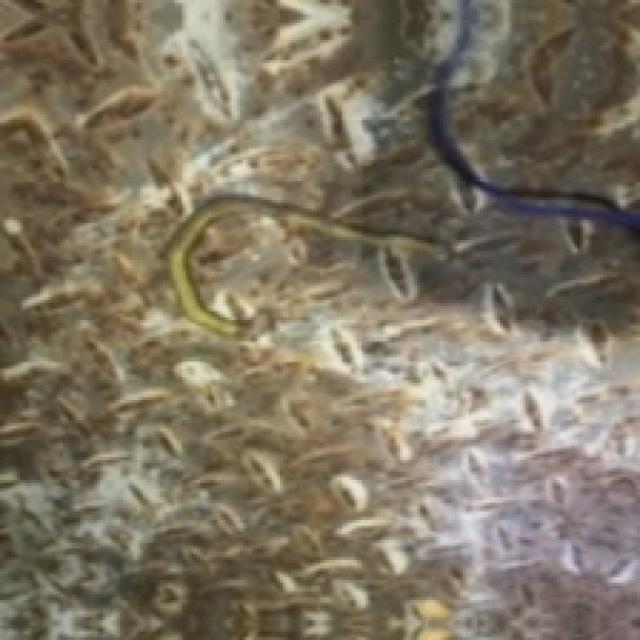gervais worm snake: (166, 194, 431, 334)
